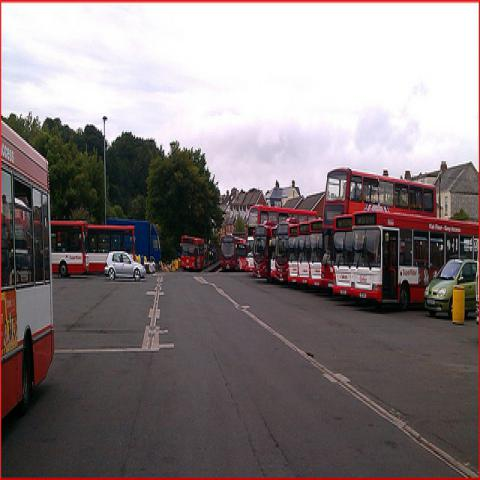bus: (2, 118, 54, 426), (322, 170, 438, 290), (350, 211, 478, 310), (244, 195, 320, 279), (87, 222, 136, 272), (51, 220, 89, 278), (332, 214, 353, 294), (252, 220, 276, 283), (272, 221, 290, 283), (309, 220, 323, 288), (220, 234, 246, 270), (180, 235, 204, 271), (298, 222, 310, 286), (288, 224, 299, 287)
car: (424, 260, 478, 320), (104, 251, 146, 283)
truck: (108, 218, 162, 264), (476, 235, 480, 329)
